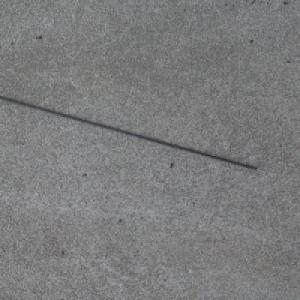LuggagePart: (0, 95, 258, 171)
